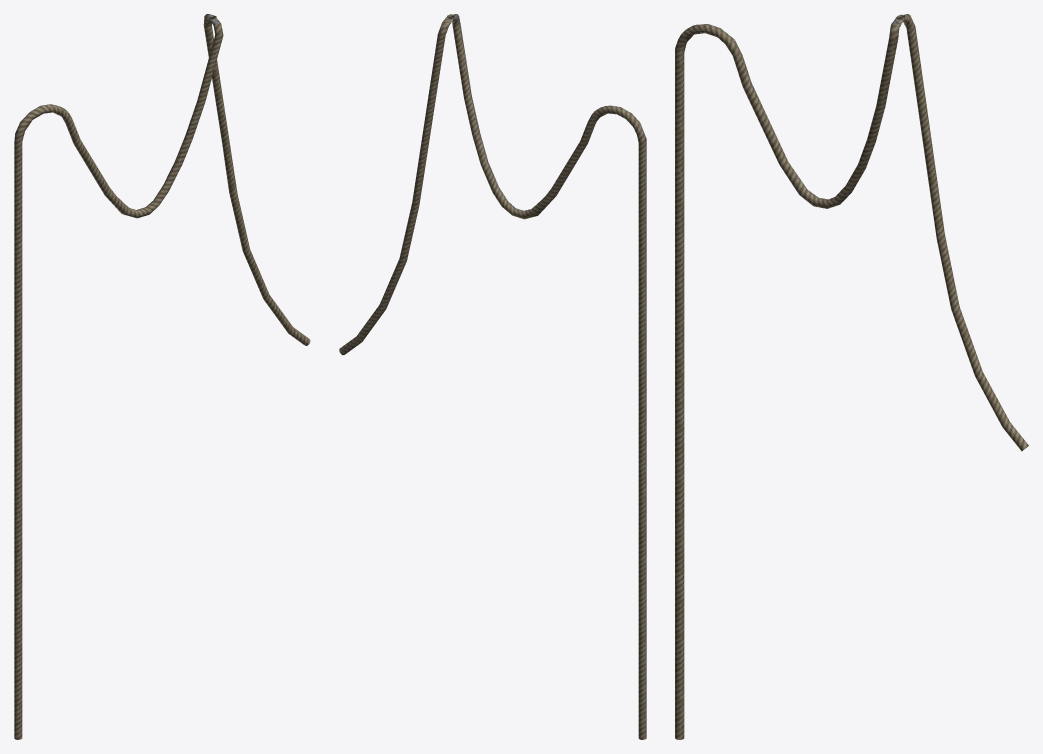
Rendered from SM_Rope-Pulley-StraightLoopback.fbx.
3 renders of one model, left to right at view 1: azimuth 30°, elevation 25°; view 2: azimuth 150°, elevation 25°; view 3: azimuth 330°, elevation 25°, orthographic. The views are drawn at different scales.
Visible parts, largest first — view 1: SM_Rope-Pulley-StraightLoopback_LOD0; view 2: SM_Rope-Pulley-StraightLoopback_LOD0; view 3: SM_Rope-Pulley-StraightLoopback_LOD0.
Boxes of the visible parts, x1,y1,x2,y2 form: SM_Rope-Pulley-StraightLoopback_LOD0: (14,14,310,739); SM_Rope-Pulley-StraightLoopback_LOD0: (339,14,646,739); SM_Rope-Pulley-StraightLoopback_LOD0: (675,14,1028,739).
Size of the model in its own units: 256 by 25.59 by 548.
1 material, 1 textured.
